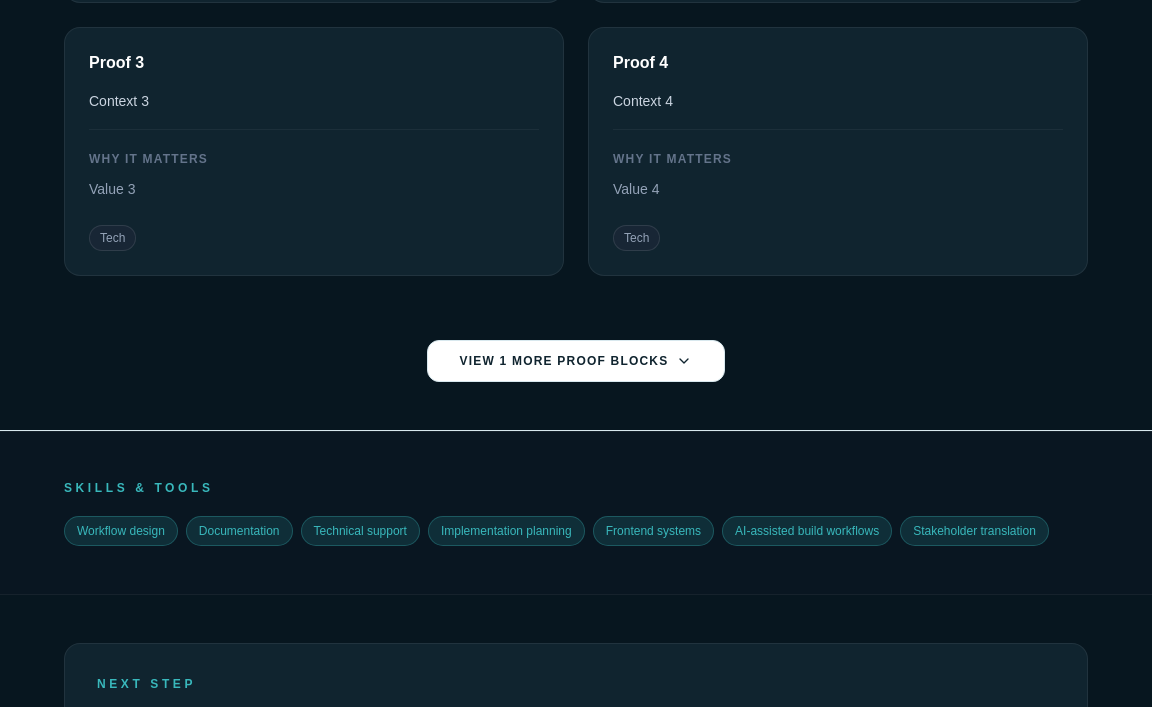
Test: RoleTrackPage › expands to show all blocks when "View More" is clicked
This screenshot has width=1152, height=707.
(page scrolled)
Click the button "View 1 More Proof Blocks" at (576,360), box left=427, top=340, right=725, bottom=382
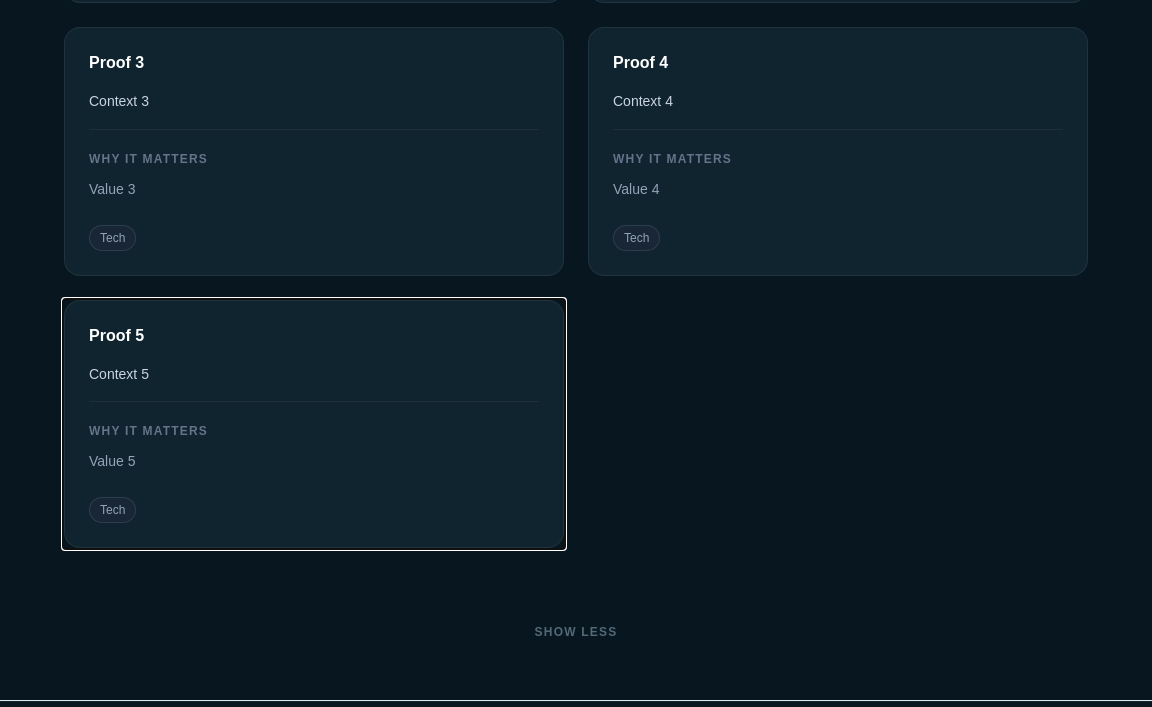
Now the heading "Proof 5" is shown, box left=89, top=326, right=144, bottom=344
Now the button "Show Less" is shown, box left=503, top=612, right=649, bottom=652
